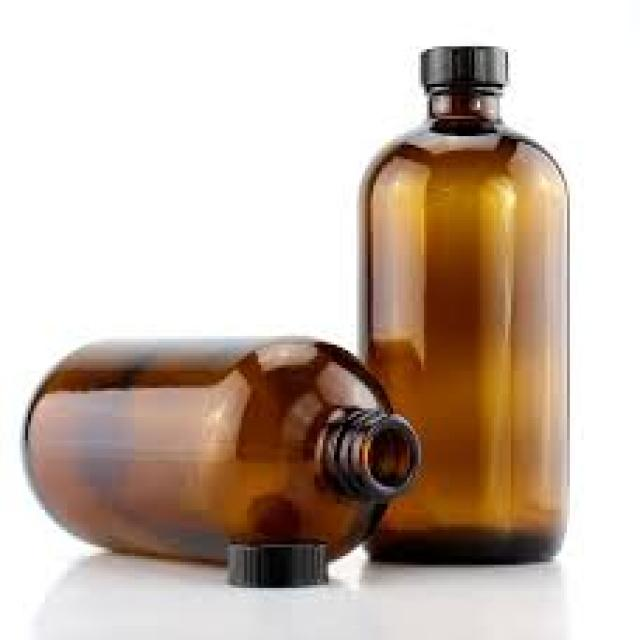glass: (354, 46, 567, 565), (17, 339, 415, 568)
plastic: (225, 536, 323, 585)
